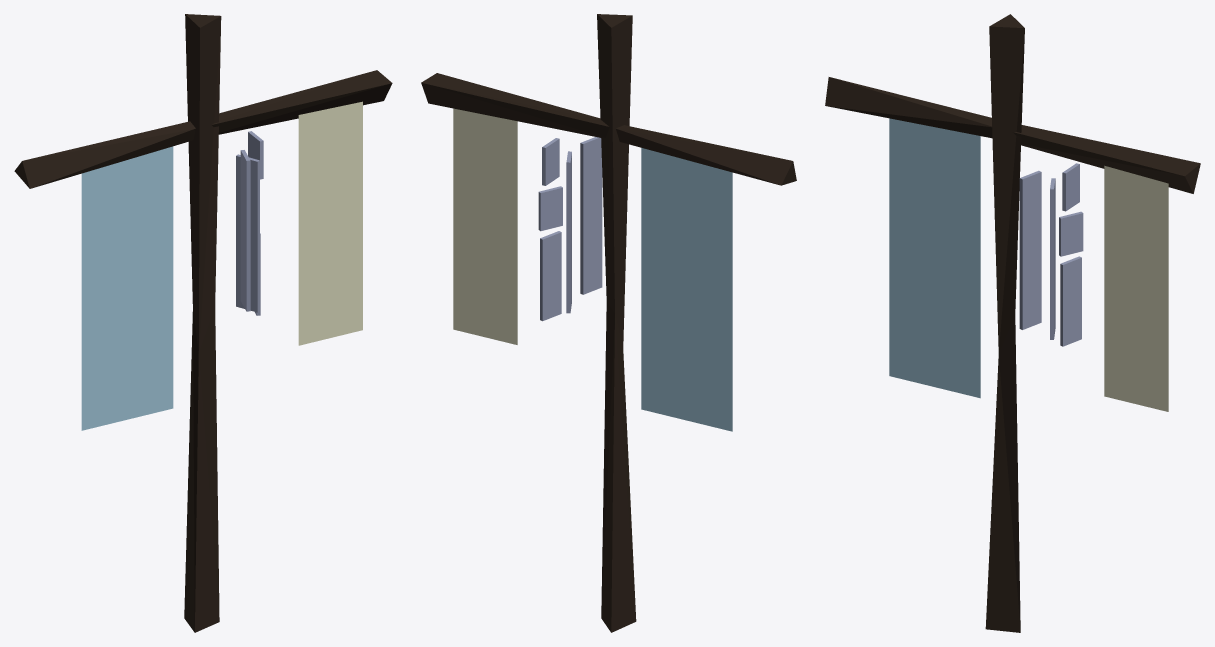
Rendered from flag.glb.
3 renders of one model, left to right at view 1: azimuth 30°, elevation 25°; view 2: azimuth 150°, elevation 25°; view 3: azimuth 330°, elevation 25°, orthographic.
Parts seen in each view (by area): view 1: Banner A, Cross-v, Banner B, Cross-h, Chime B, Chime C; view 2: Banner A, Cross-v, Banner B, Cross-h, Chime C, Chime A3, Chime A2, Chime B, Chime A1; view 3: Banner A, Cross-v, Banner B, Cross-h, Chime C, Chime A3, Chime A2, Chime B, Chime A1.
Boxes of the visible parts, box(x1,y1,x2,y2) form: Banner A: box(81, 146, 173, 430); Cross-v: box(184, 14, 221, 632); Banner B: box(298, 101, 362, 345); Cross-h: box(14, 70, 392, 188); Chime B: box(236, 154, 259, 312); Chime C: box(240, 150, 250, 311); Banner A: box(641, 148, 732, 431); Cross-v: box(597, 14, 636, 632); Banner B: box(453, 108, 517, 344); Cross-h: box(421, 73, 796, 185); Chime C: box(580, 137, 602, 294); Chime A3: box(540, 231, 561, 321); Chime A2: box(538, 186, 562, 231); Chime B: box(566, 151, 571, 313); Chime A1: box(542, 138, 559, 185); Banner A: box(889, 118, 980, 398); Cross-v: box(985, 14, 1024, 632); Banner B: box(1104, 165, 1168, 411); Cross-h: box(825, 77, 1200, 193); Chime C: box(1019, 170, 1041, 329); Chime A3: box(1060, 256, 1081, 346); Chime A2: box(1059, 211, 1083, 256); Chime B: box(1050, 178, 1055, 339); Chime A1: box(1062, 163, 1079, 211).
Size of the model in its own units: 5.05 by 8.02 by 0.6784.
